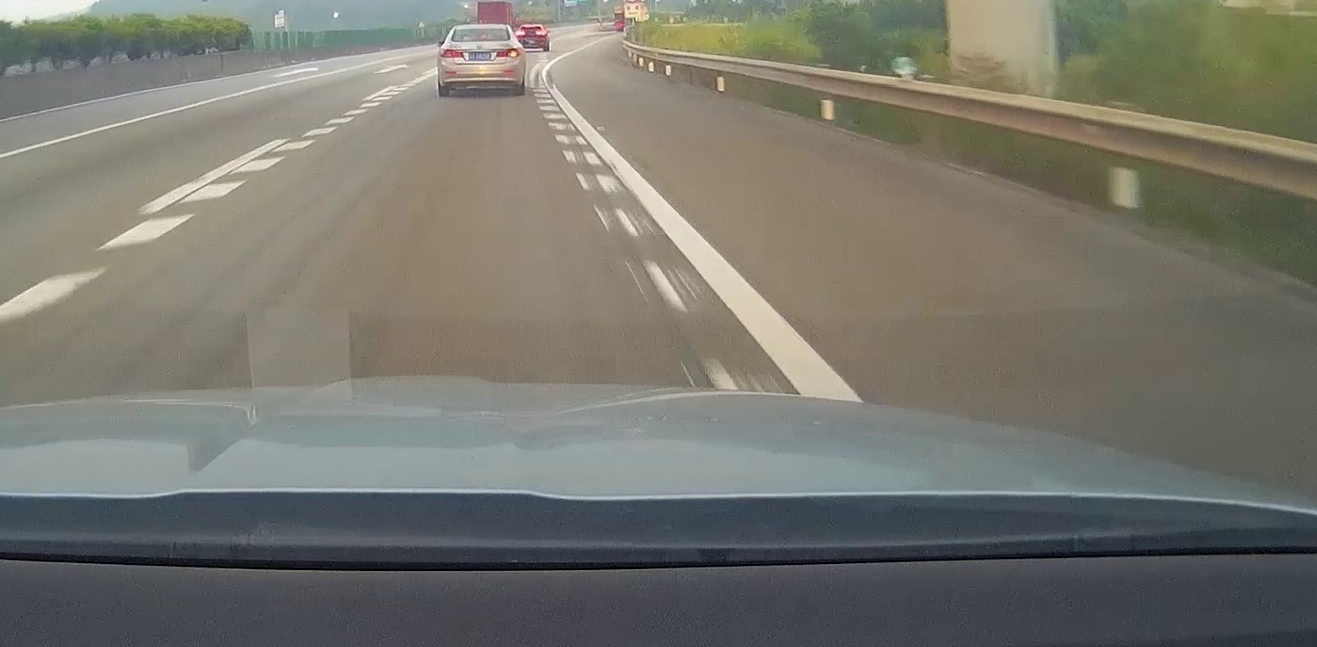L_light: (439, 48, 464, 58)
R_light: (496, 48, 521, 58)
T_light: (474, 39, 488, 41)
day-right: (437, 24, 525, 97)
